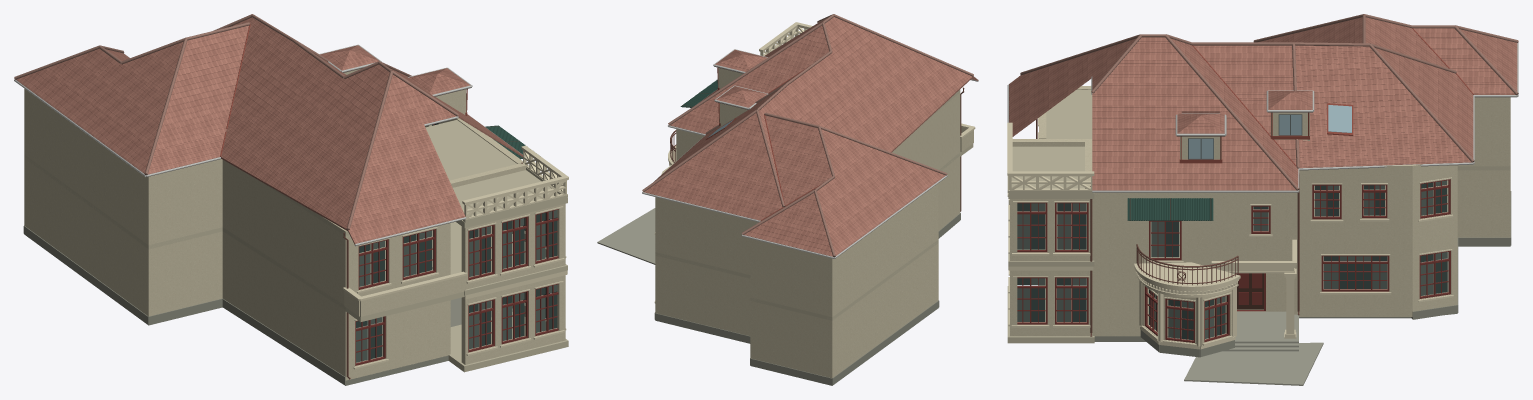
Rendered from changning-yuyuan-1055-huang-family-garden-residence-raw.glb.
3 renders of one model, left to right at view 1: azimuth 30°, elevation 25°; view 2: azimuth 150°, elevation 25°; view 3: azimuth 270°, elevation 25°, orthographic. The views are drawn at different scales.
Visible parts, largest first — view 1: 愚园路1055号黄家花园住宅; view 2: 愚园路1055号黄家花园住宅; view 3: 愚园路1055号黄家花园住宅.
Part boxes in pixels (x1,y1,x2,y2): 愚园路1055号黄家花园住宅: (14,14,568,385); 愚园路1055号黄家花园住宅: (597,14,978,385); 愚园路1055号黄家花园住宅: (1007,14,1518,385).
Size of the model in its own units: 19.44 by 12.35 by 22.33.
Materials: 19 (2 with a texture image).
